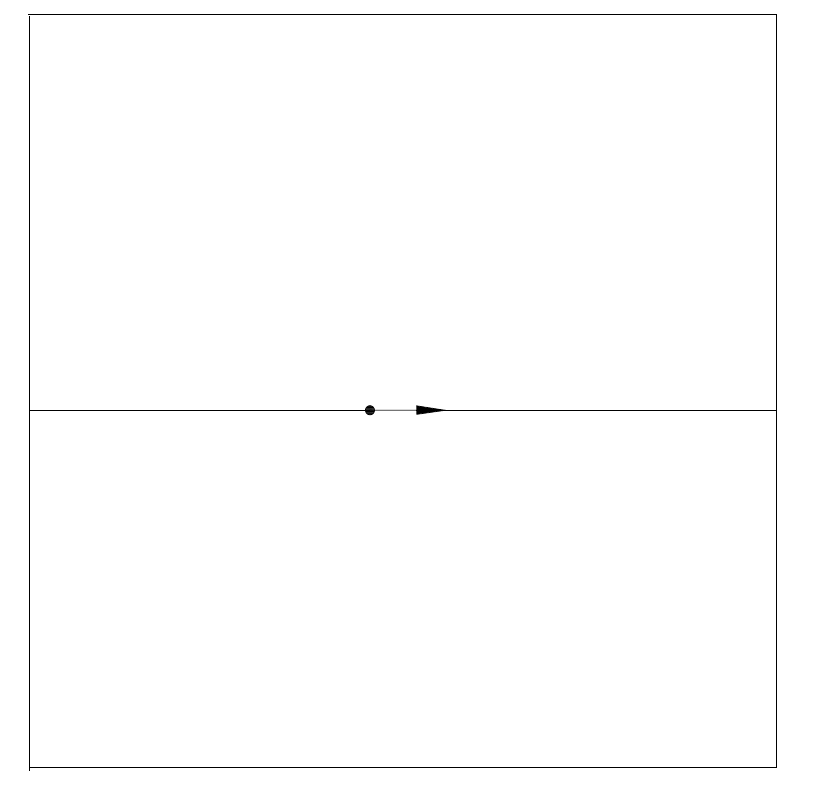Arrow: (352, 385, 455, 434)
